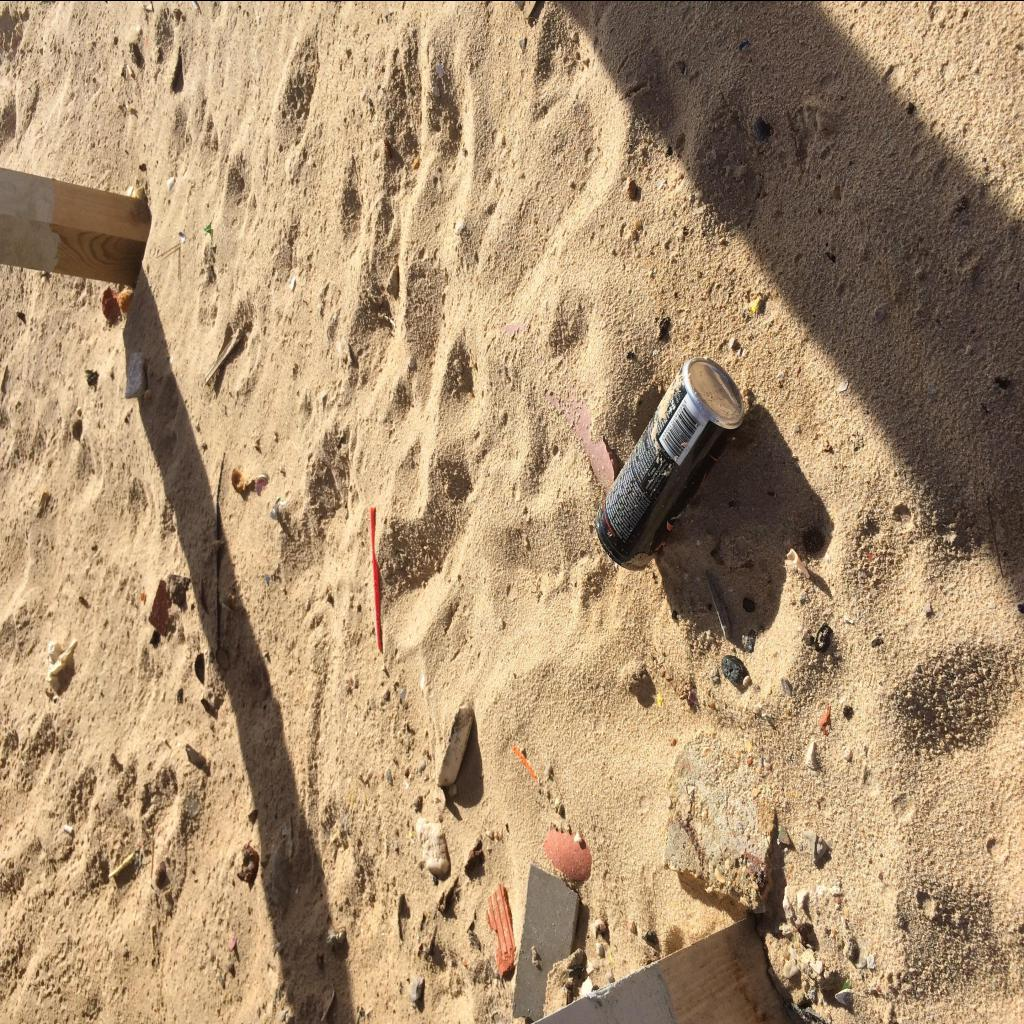Drink can: (596, 356, 744, 570)
Metal bottle cap: (256, 473, 270, 495)
Plastic straw: (370, 506, 382, 650)
Unlabeled litter: (45, 638, 78, 698)
